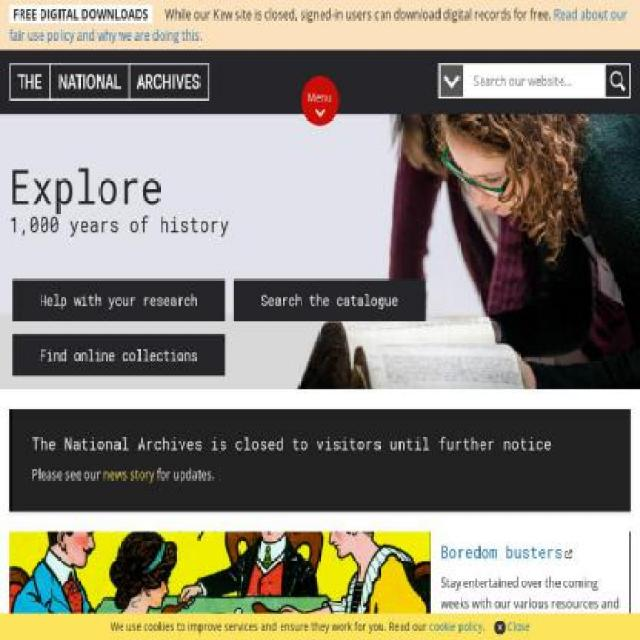button: (9, 532, 631, 639), (9, 62, 258, 101), (12, 278, 225, 320), (12, 334, 225, 375), (233, 278, 425, 320), (301, 76, 339, 126), (493, 617, 530, 635)
field: (464, 62, 605, 100), (603, 62, 631, 100)
